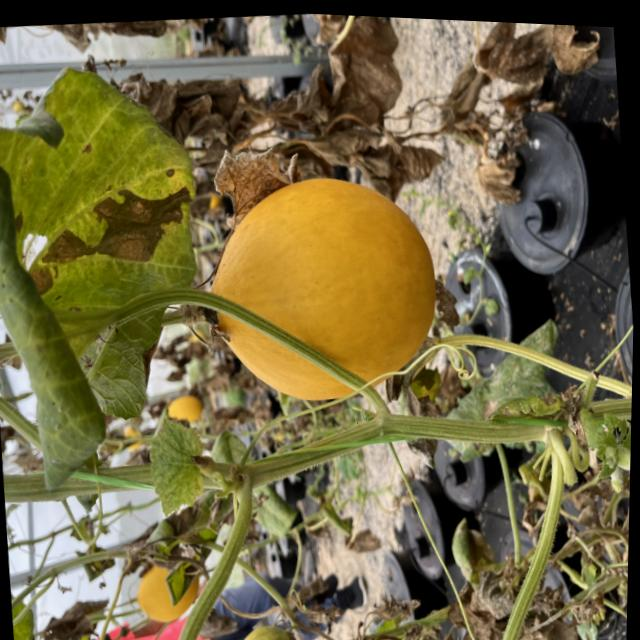CMV: (136, 406, 213, 518)
bacterial wilt: (0, 45, 232, 505), (209, 124, 309, 236)
